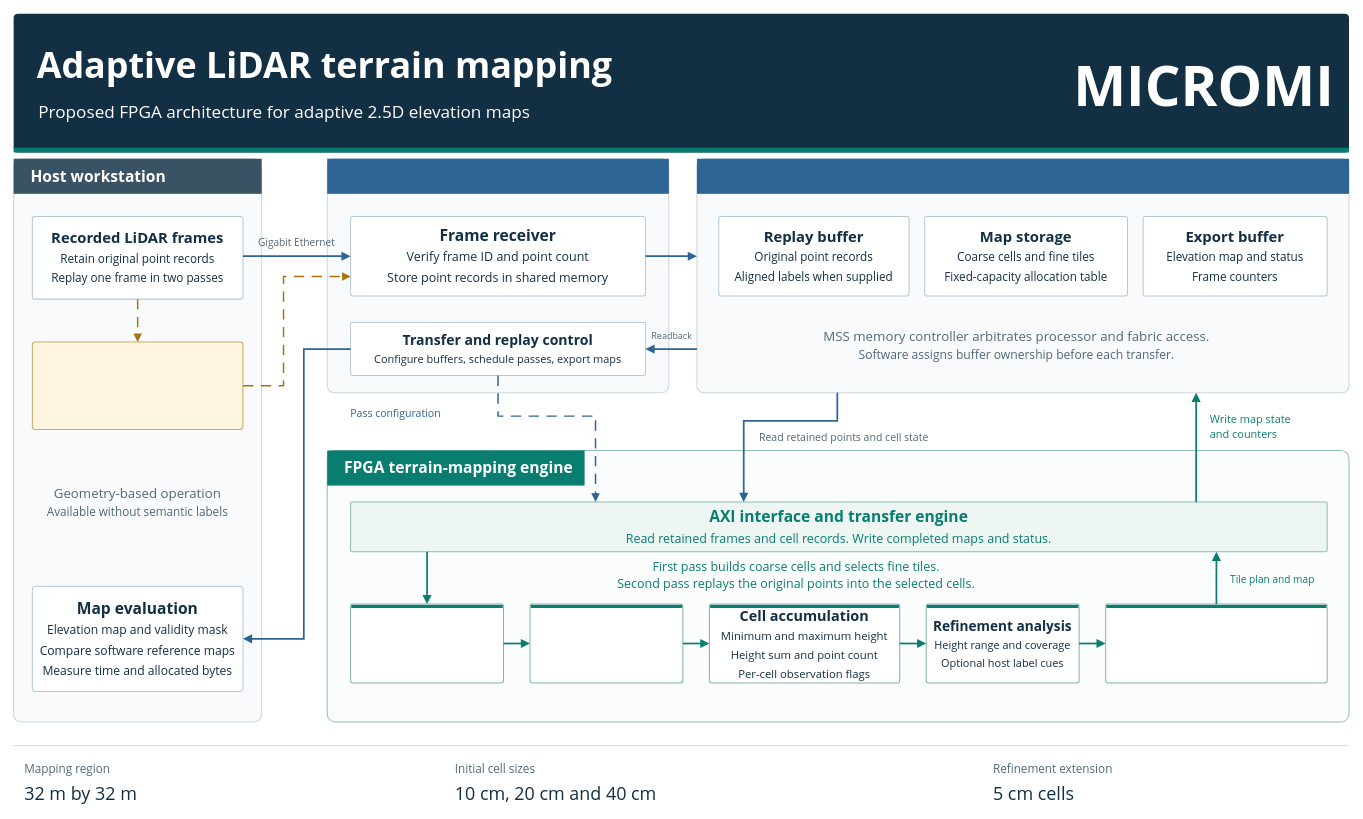
This 1363x819 diagram has some shape labels left out. Here are the shapes that lost their labels. From the top down, the centre of each, then its label:
At (497,175): "RISC-V processor subsystem".
At (1023,175): "Shared LPDDR4 memory".
At (137,385): "Semantic preprocessing Optional class and confidence CNN inference on the host".
At (427,643): "Point validation Reject invalid coordinates Crop a 32 m square".
At (606,643): "Coordinate binning Fixed-point cell addresses Selected tile lookup".
At (1216,643): "Tile allocation Use a fixed-capacity tile pool Keep coarse cells at capacity".
